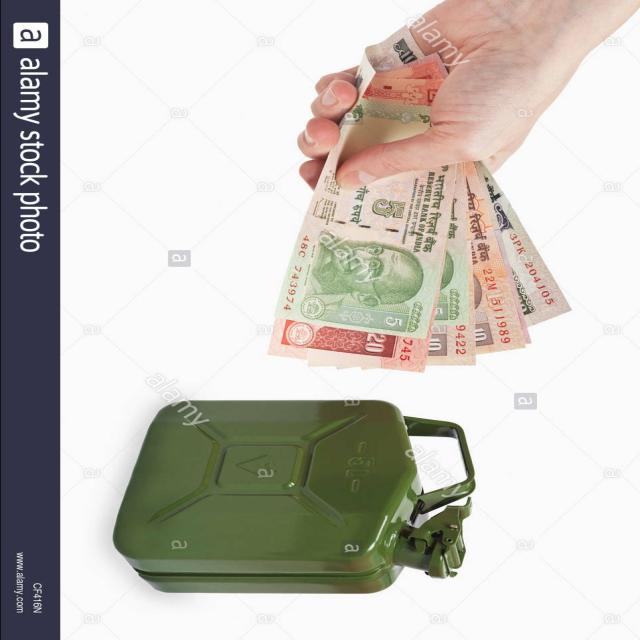5IndianRupees: (285, 118, 450, 340)
